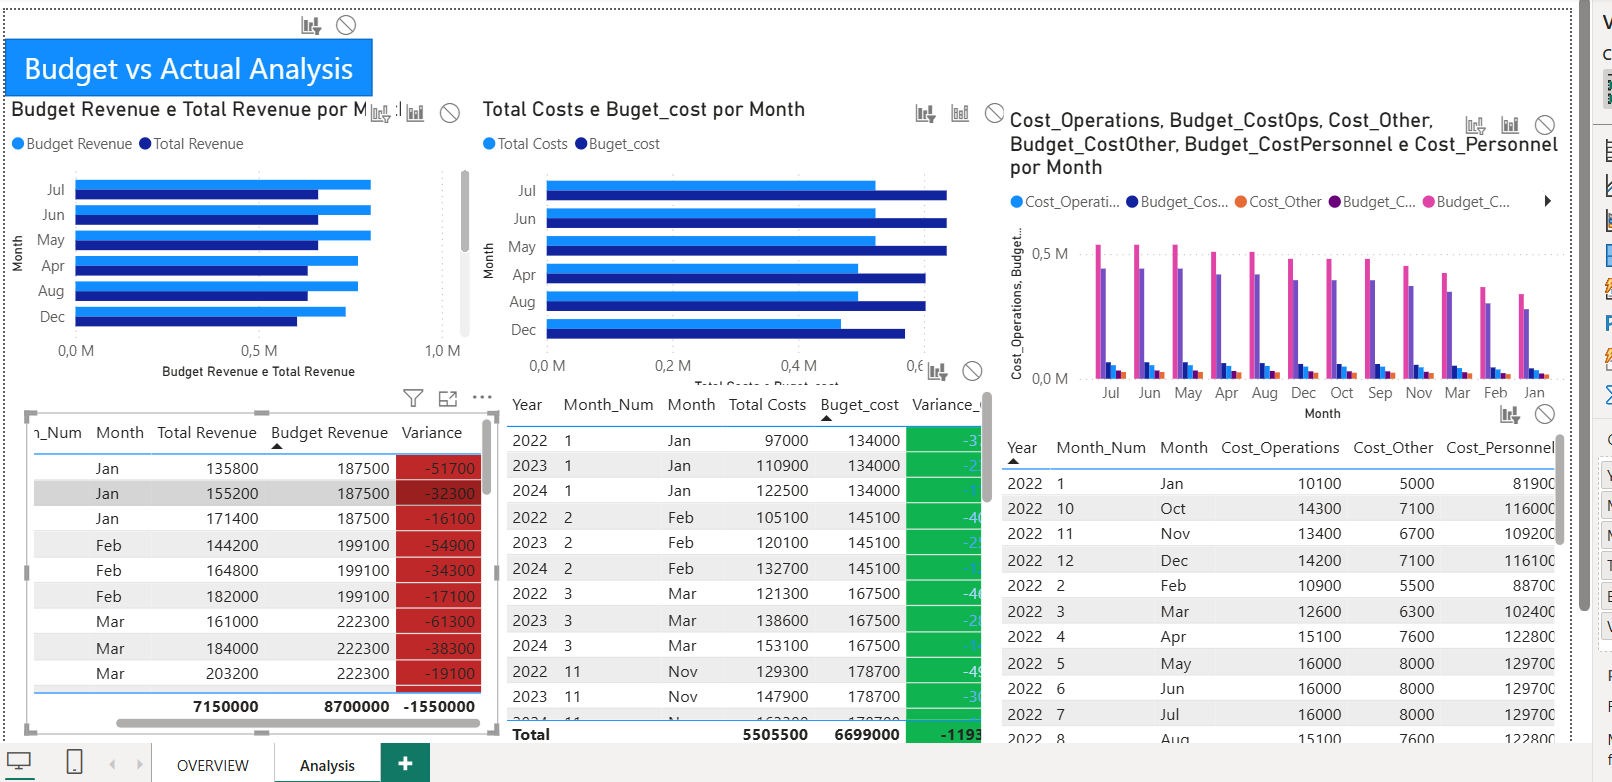

The page's visual inventory and layout, read from the dashboard file:
{"tool":"powerbi","page":{"name":"Analysis","canvas":[1280,720],"ordinal":1},"visuals":[{"type":"clusteredBarChart","fields":{"Y":["RawData.Budget Revenue","RawData.Total Revenue"],"Category":["RawData.Month"]},"box":[0,70.5,385.2,236.1],"z":0},{"type":"tableEx","fields":{"Values":["RawData.Year","RawData.Month_Num","RawData.Month","RawData.Total Revenue","RawData.Budget Revenue","RawData.Variance"]},"box":[17.4,328.8,385.8,263.8],"z":1000},{"type":"clusteredBarChart","fields":{"Category":["RawData.Month"],"Y":["RawData.Total Costs","RawData.Buget_cost"]},"box":[385.2,70.5,445.5,248.3],"z":2000},{"type":"tableEx","fields":{"Values":["RawData.Year","RawData.Month_Num","RawData.Month","RawData.Total Costs","RawData.Buget_cost","RawData.Variance_Cost"]},"box":[403.6,306.6,408.7,308.6],"z":3000},{"type":"clusteredColumnChart","fields":{"Category":["RawData.Month"],"Y":["Sum(RawData.Cost_Operations)","Sum(RawData.Budget_CostOps)","Sum(RawData.Cost_Other)","Sum(RawData.Budget_CostOther)","Sum(RawData.Budget_CostPersonnel)","Sum(RawData.Cost_Personnel)"]},"box":[816.4,79.6,464,261.7],"z":4000},{"type":"tableEx","fields":{"Values":["RawData.Year","RawData.Month_Num","RawData.Month","RawData.Cost_Operations","RawData.Cost_Other","RawData.Cost_Personnel","RawData.Budget_CostOps","RawData.Budget_CostOther","RawData.Budget_CostPersonnel"]},"box":[808.3,341.3,472.1,297.4],"z":5000},{"type":"shape","box":[0,23.5,300.4,47],"z":5001}]}

Visuals, with their boxes on the page's 1280x720 design canvas (x1, y1, x2, y2). These are canvas units, not pixel positions in the 1612x782 screenshot, which may show the page scaled, cropped or inside an application window:
clusteredBarChart - RawData.Budget Revenue x RawData.Total Revenue: {"x1": 0, "y1": 70, "x2": 385, "y2": 307}
tableEx - RawData.Year x RawData.Month_Num: {"x1": 17, "y1": 329, "x2": 403, "y2": 593}
clusteredBarChart - RawData.Month x RawData.Total Costs: {"x1": 385, "y1": 70, "x2": 831, "y2": 319}
tableEx - RawData.Year x RawData.Month_Num: {"x1": 404, "y1": 307, "x2": 812, "y2": 615}
clusteredColumnChart - RawData.Month x Sum(RawData.Cost_Operations): {"x1": 816, "y1": 80, "x2": 1280, "y2": 341}
tableEx - RawData.Year x RawData.Month_Num: {"x1": 808, "y1": 341, "x2": 1280, "y2": 639}
shape: {"x1": 0, "y1": 24, "x2": 300, "y2": 70}
